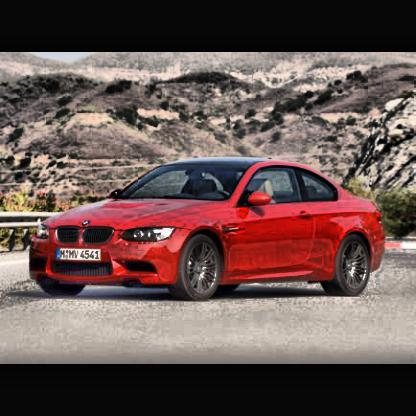BMW M3 Coupe 2012: (30, 157, 388, 303)
